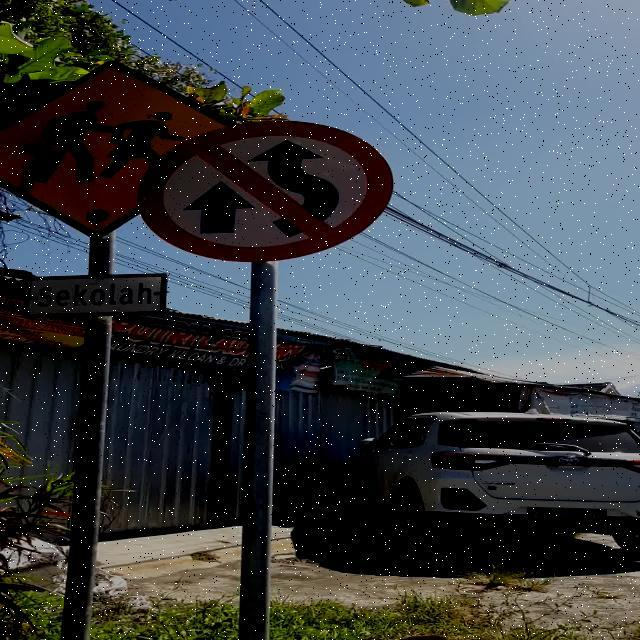Dilarang Mendahului: (137, 120, 393, 262)
